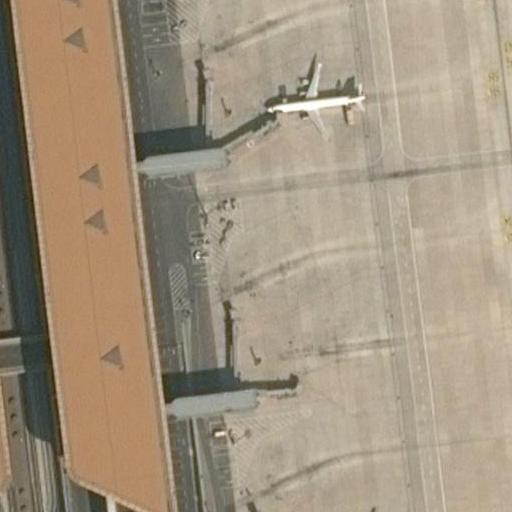Aircraft: (266, 60, 367, 139)
